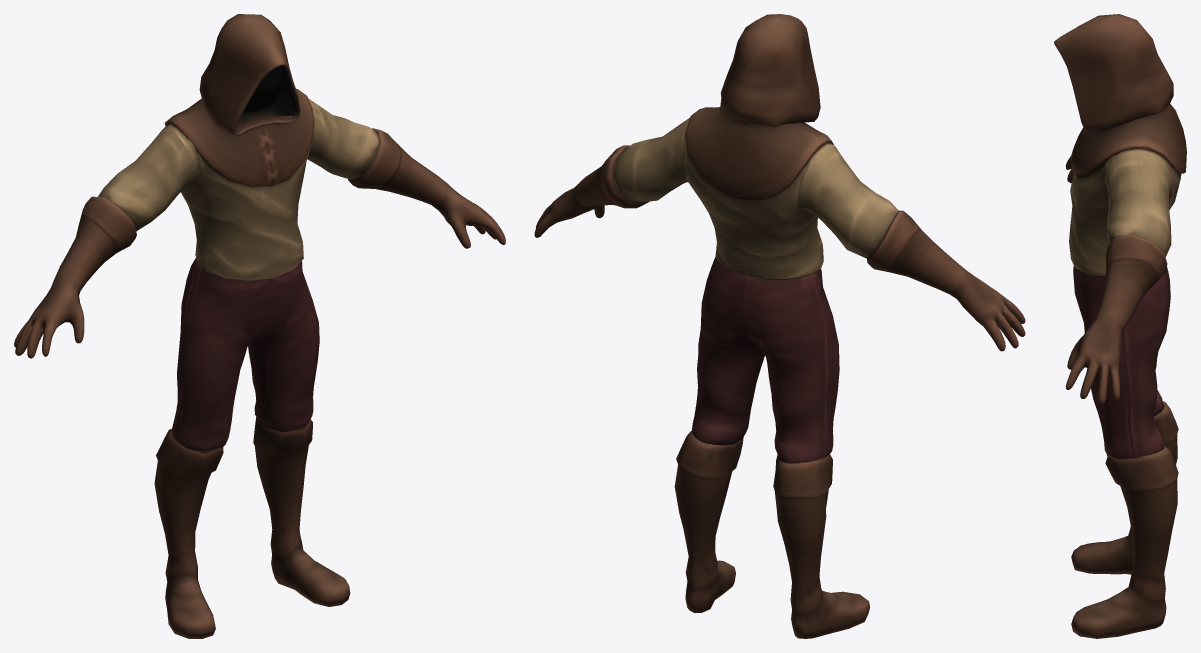
File: Placeholder.fbx
3 views of the same model, side by side, from view 1: azimuth 30°, elevation 25°; view 2: azimuth 150°, elevation 25°; view 3: azimuth 270°, elevation 25° (orthographic).
Visible parts, largest first — view 1: Body, Hood, Head; view 2: Body, Hood; view 3: Body, Hood.
Boxes of the visible parts, x1,y1,x2,y2 form: Body: [14, 89, 505, 638]; Hood: [199, 14, 300, 135]; Head: [244, 66, 281, 112]; Body: [534, 107, 1025, 638]; Hood: [719, 14, 820, 126]; Body: [1065, 103, 1186, 638]; Hood: [1054, 14, 1173, 131].
Bounding box in the file's own units: 140 × 164 × 33.88.
